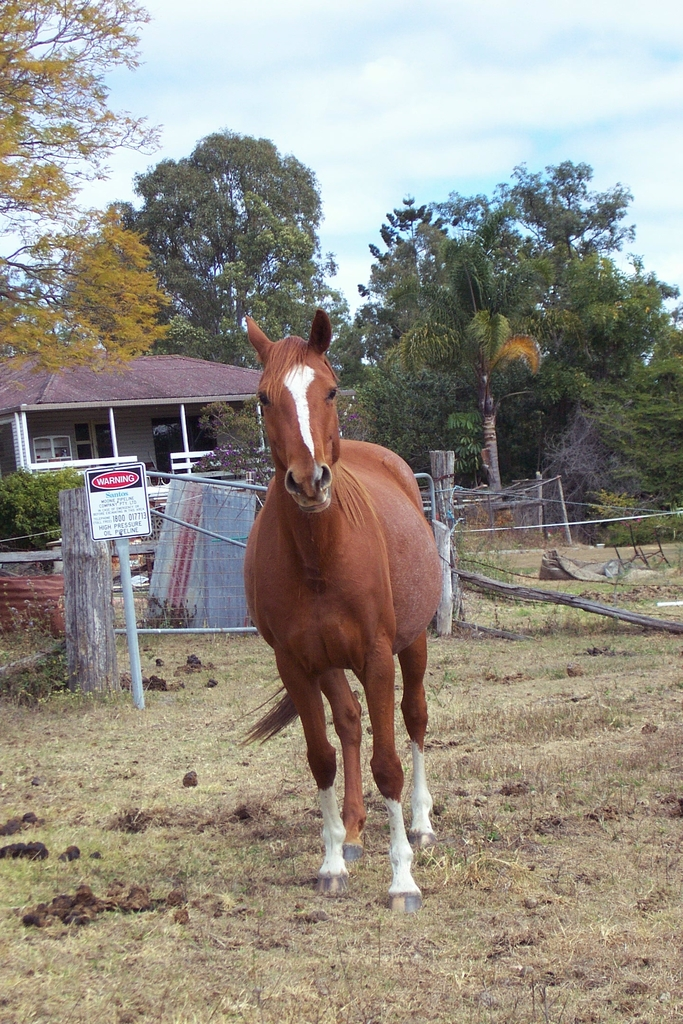horse: (228, 314, 447, 912)
